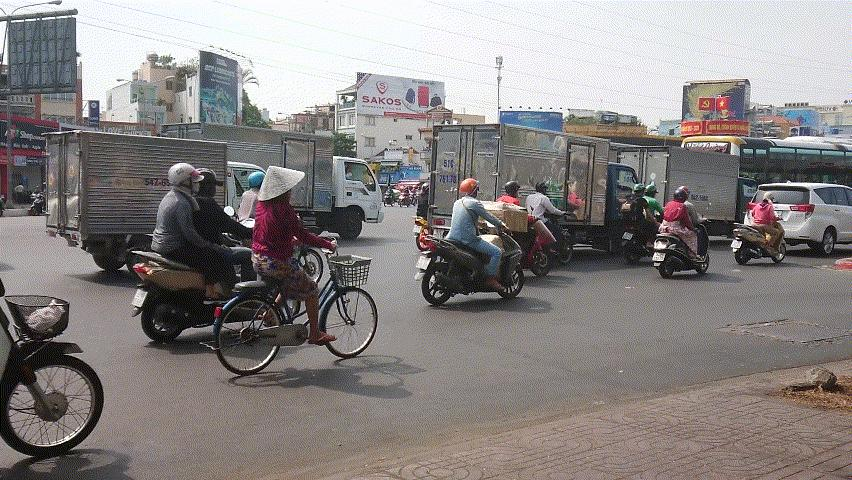bicyclist: (201, 164, 379, 376)
driver: (132, 160, 300, 345), (415, 177, 525, 308), (653, 186, 712, 278), (730, 191, 787, 265), (621, 182, 664, 264)
helmet: (168, 161, 205, 198), (195, 167, 217, 198), (459, 177, 481, 200), (505, 180, 521, 199), (673, 188, 688, 203), (646, 185, 659, 199), (536, 181, 548, 196), (634, 183, 646, 197), (763, 191, 774, 205)
no-helmet: (257, 166, 305, 202)
